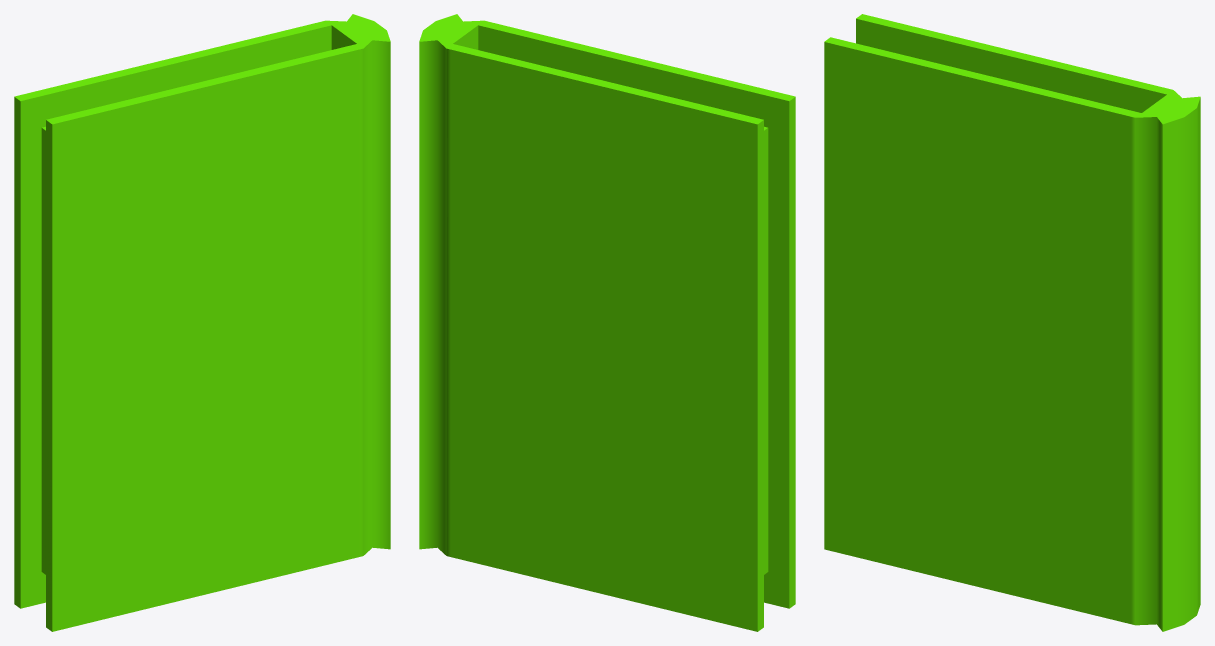
Rendered from Book_1.fbx.
3 views of the same model, side by side, from view 1: azimuth 30°, elevation 25°; view 2: azimuth 150°, elevation 25°; view 3: azimuth 330°, elevation 25° (orthographic).
Parts seen in each view (by area): view 1: Book; view 2: Book; view 3: Book.
Boxes of the visible parts, bbox=[...] form: Book: bbox=[14, 14, 390, 631]; Book: bbox=[419, 14, 795, 631]; Book: bbox=[824, 14, 1200, 631].
Bounding box in the file's own units: 1.47 × 2.06 × 0.2796.
